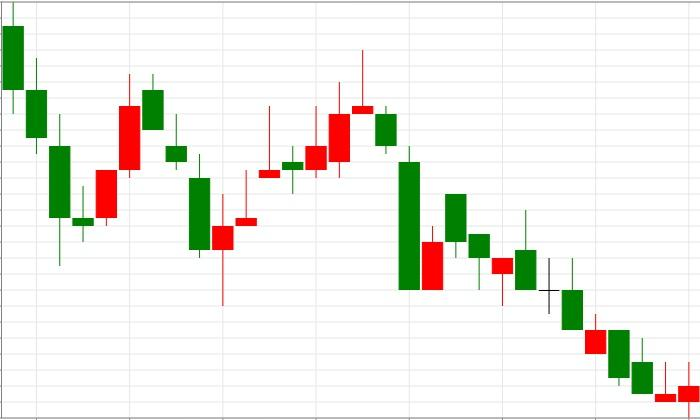evening_star_fall: (212, 49, 396, 307)
morning_star_rise: (2, 2, 117, 266)
